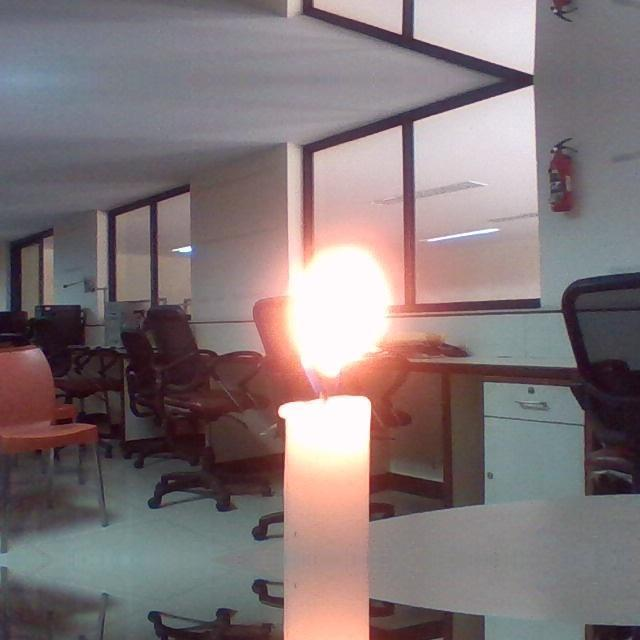smoke: (284, 244, 392, 384)
